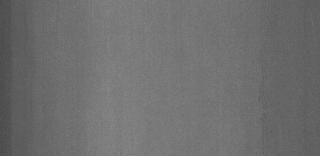silk spot: (252, 42, 286, 144)
